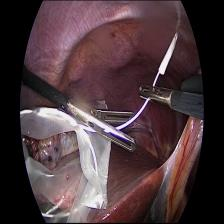Grasper: (69, 96, 141, 158), (136, 85, 174, 107)
Specimen Bag: (19, 104, 124, 224)
